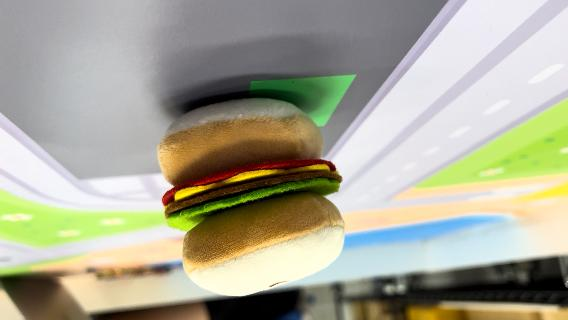sandwich: (155, 94, 349, 296)
